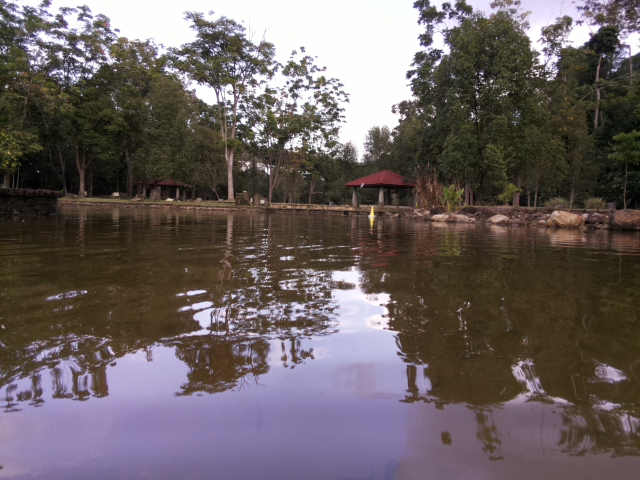checkpoint: (366, 205, 377, 220)
